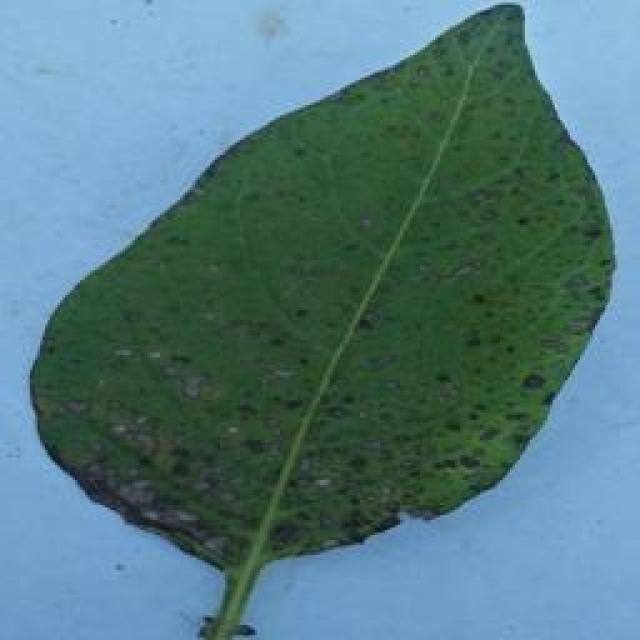Potato_Early_Blight: (3, 8, 629, 628)
